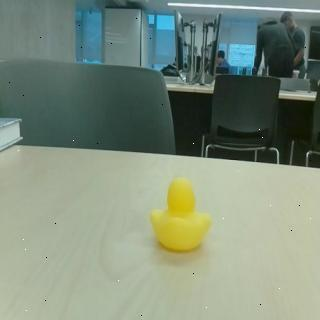duck_regular: (150, 179, 214, 257)
